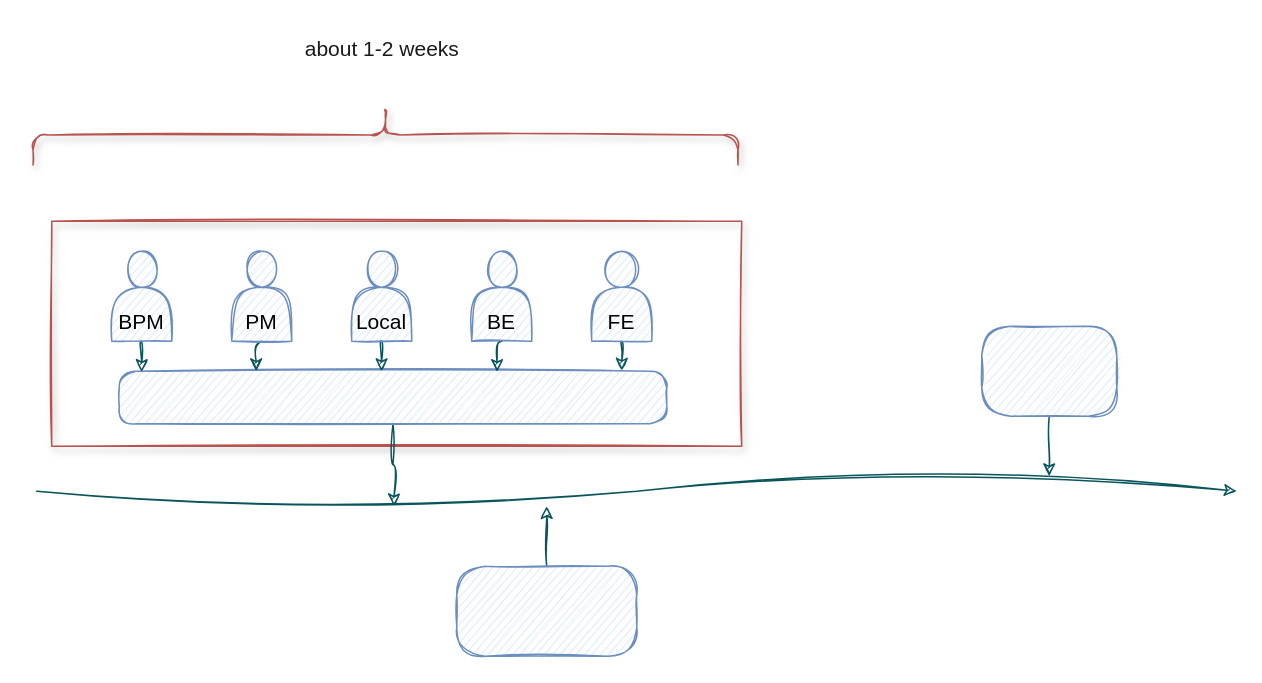
The diagram is 1262 pixels wide and 683 high, and some of its shapes have lost their labels. Here are the shapes that lost their labels. From the top down, the centre of each, then its label:
At (x=1048, y=370): "UAT / Live 0.5 week".
At (x=392, y=397): "template file".
At (x=546, y=610): "Hub Development 1 week".
